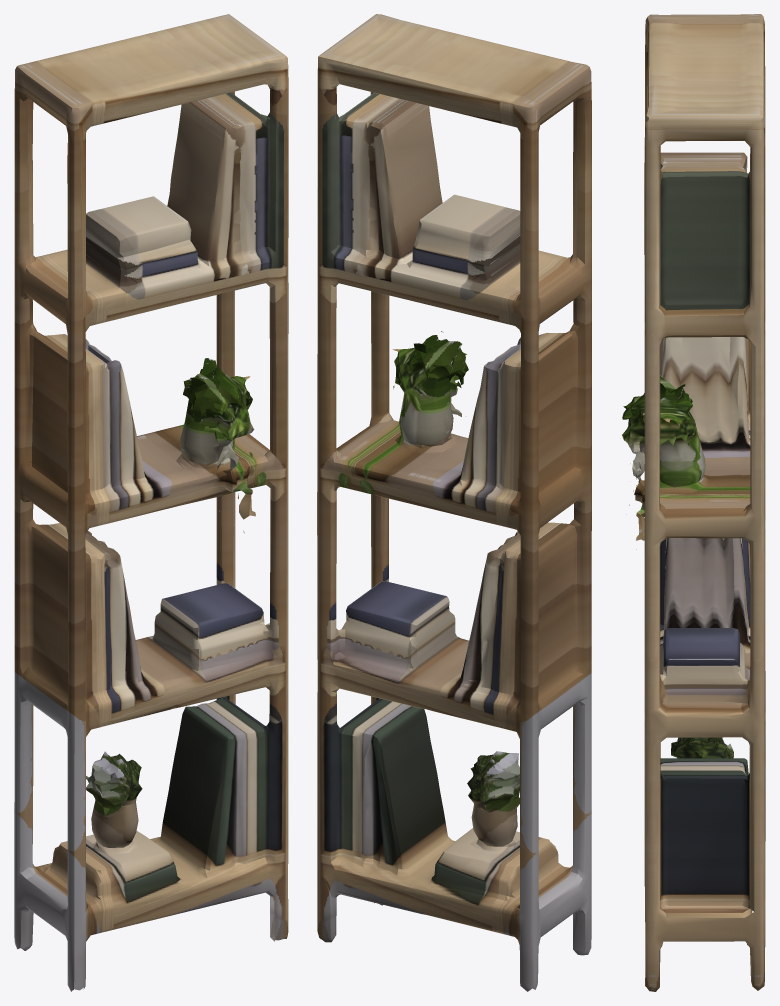
Rendered from bookshelf.glb.
The picture shows the model from 3 angles, left to right: view 1: azimuth 30°, elevation 25°; view 2: azimuth 150°, elevation 25°; view 3: azimuth 270°, elevation 25°; orthographic projection.
Parts seen in each view (by area): view 1: Mesh_0; view 2: Mesh_0; view 3: Mesh_0.
Part boxes in pixels (x1,y1,x2,y2): Mesh_0: (14,14,288,991); Mesh_0: (317,14,591,991); Mesh_0: (622,14,765,991).
Bounding box in the file's own units: 0.4627 × 1.79 × 0.2689.
Materials: 1 (1 with a texture image).
